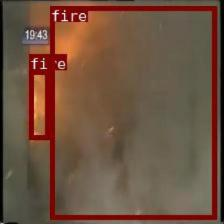fire: (49, 5, 216, 219), (28, 69, 48, 139)
